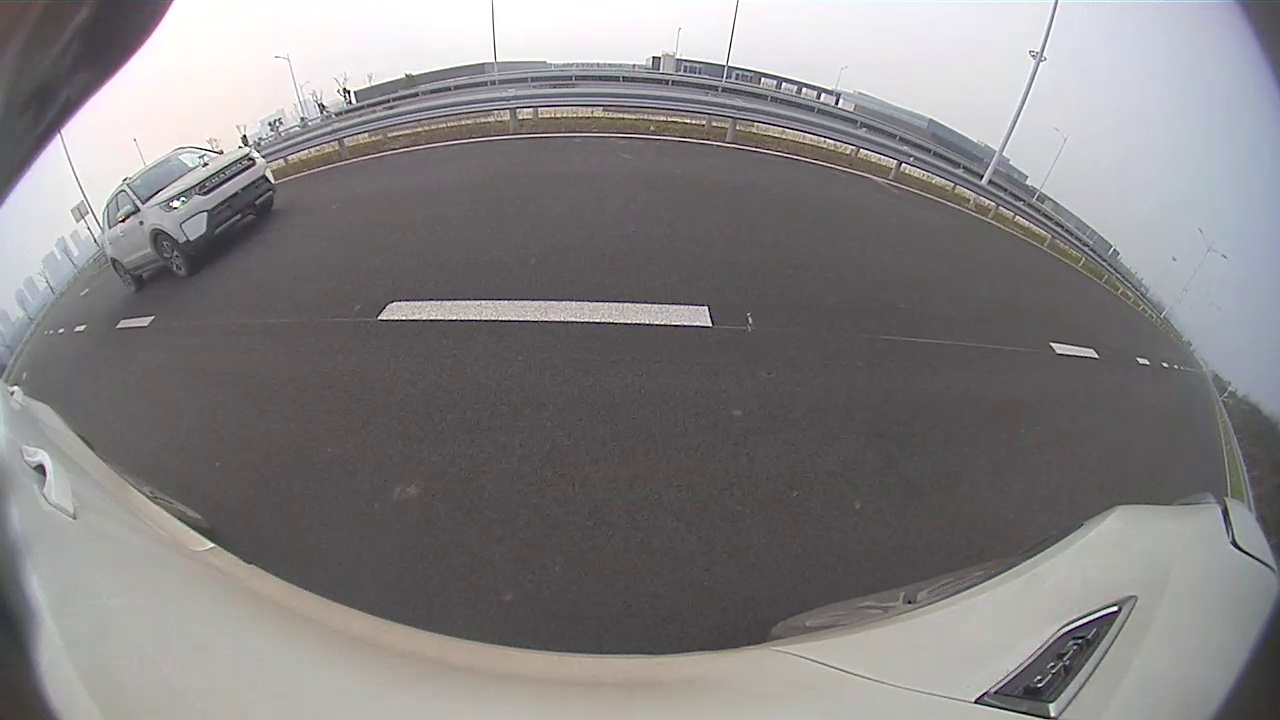car: (138, 142, 450, 337)
front: (416, 196, 449, 247)
rear: (252, 242, 326, 324)
